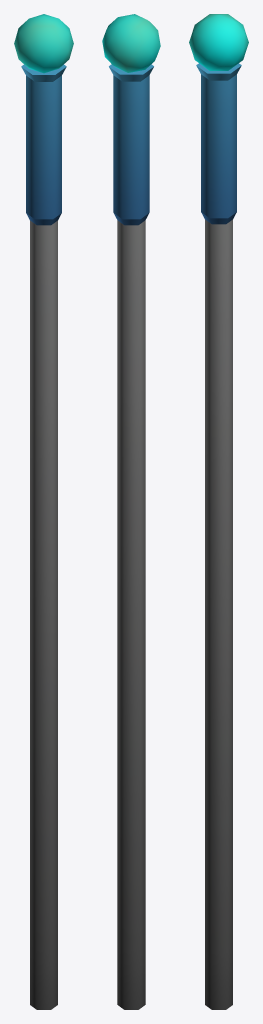
The model's file is Staff2h_02.fbx.
The picture shows the model from 3 angles, left to right: view 1: azimuth 90°, elevation 25°; view 2: azimuth 150°, elevation 25°; view 3: azimuth 270°, elevation 25°; orthographic projection.
Visible parts, largest first — view 1: Staff2h_02; view 2: Staff2h_02; view 3: Staff2h_02.
Part boxes in pixels (<box>): Staff2h_02: <box>14,14,73,1009</box>; Staff2h_02: <box>102,14,160,1009</box>; Staff2h_02: <box>189,14,248,1009</box>.
Size of the model in its own units: 9.08 by 174 by 9.55.
